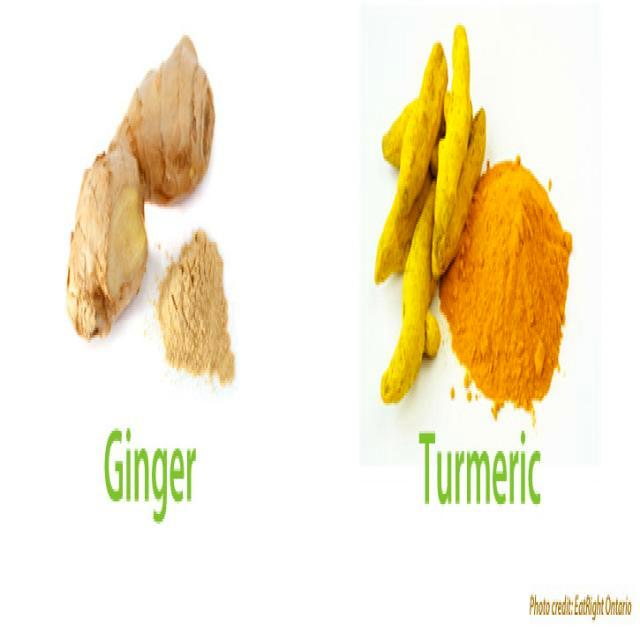ginger: (130, 34, 213, 201)
